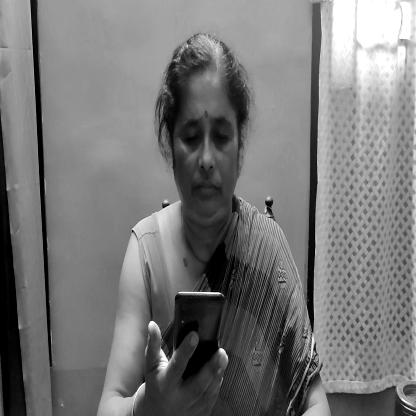Distracted: (160, 42, 250, 232)
